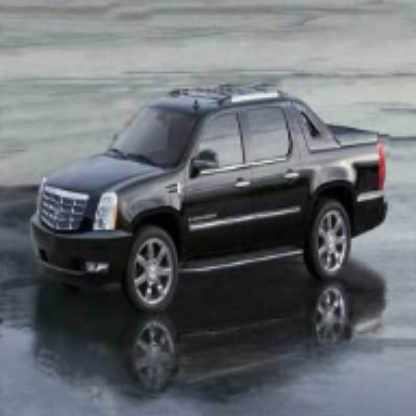Vehicle: (16, 69, 406, 368)
